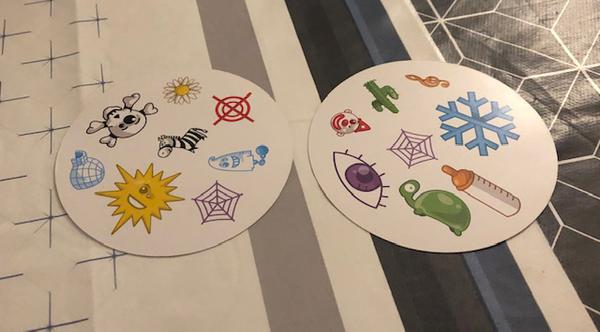biberon: (435, 159, 527, 221)
cactus: (359, 78, 402, 116)
cible: (204, 86, 259, 128)
clown: (324, 107, 374, 138)
fantome: (203, 139, 273, 177)
fleur: (159, 72, 204, 107)
flocon: (430, 89, 524, 157)
igloo: (64, 147, 107, 191)
note: (403, 71, 453, 91)
oeuil: (323, 142, 394, 214)
soleil: (93, 157, 189, 237)
tete_mort: (78, 85, 162, 150)
toile: (188, 176, 248, 231), (386, 126, 438, 170)
tortue: (396, 170, 480, 239)
zebre: (150, 122, 214, 159)
